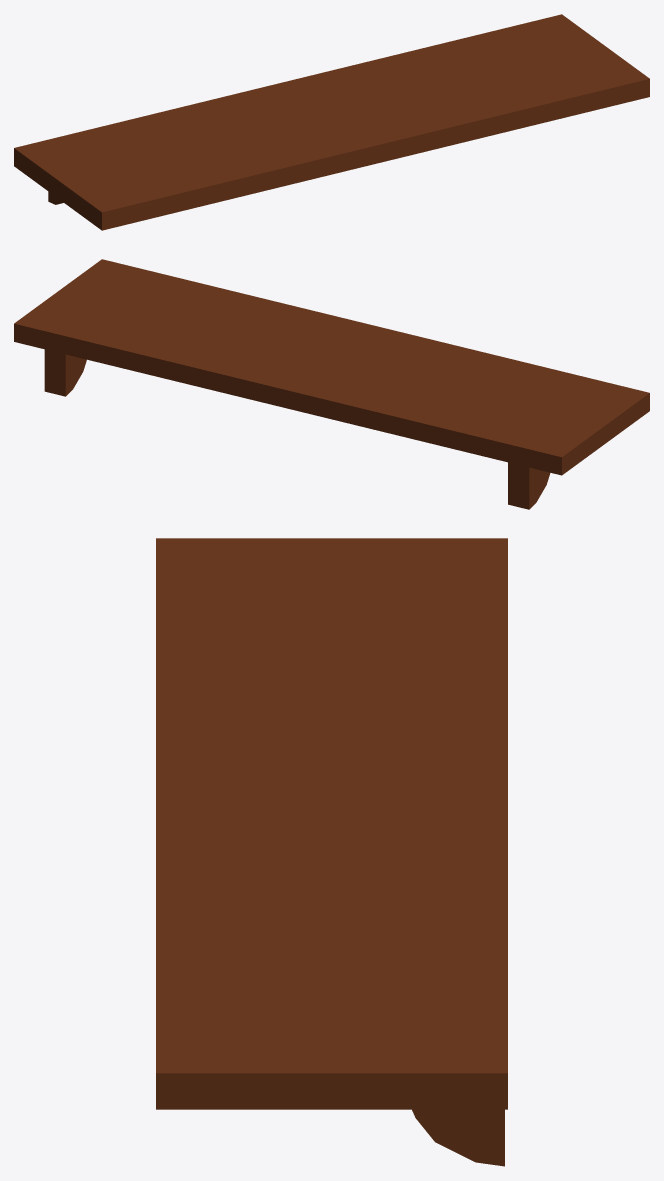
Rendered from shelf.fbx.
3 views of the same model, one above another, from view 1: azimuth 30°, elevation 25°; view 2: azimuth 150°, elevation 25°; view 3: azimuth 270°, elevation 25° (orthographic). The views are drawn at different scales.
Visible parts, largest first — view 1: Cube; view 2: Cube, Cube.001, Cube.002; view 3: Cube, Cube.001.
Boxes of the visible parts, <box> form: Cube: <box>14,14,649,230</box>; Cube: <box>14,259,649,475</box>; Cube.001: <box>44,349,86,396</box>; Cube.002: <box>508,462,550,509</box>; Cube: <box>156,538,507,1109</box>; Cube.001: <box>412,1109,504,1166</box>.
Size of the model in its own units: 401 by 42.83 by 112.
